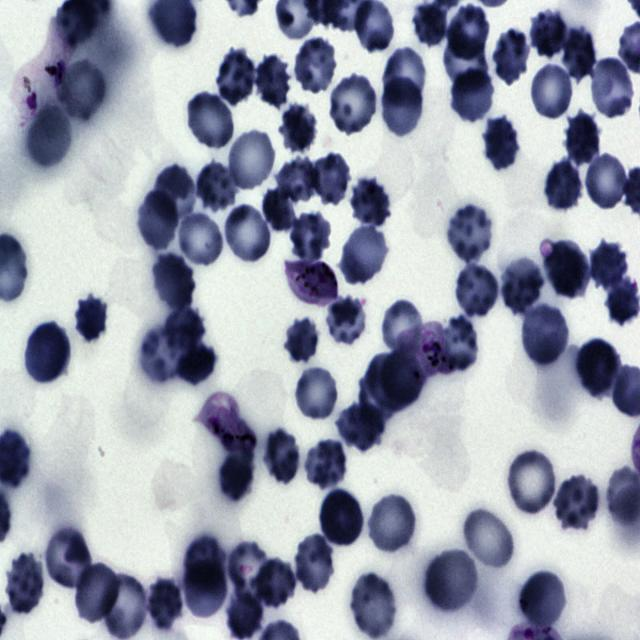red blood cell: (503, 446, 559, 518), (461, 506, 515, 573), (424, 549, 478, 615), (225, 127, 278, 194), (349, 570, 398, 640), (366, 491, 418, 556), (520, 302, 570, 369), (326, 72, 379, 135), (24, 103, 73, 171), (222, 202, 274, 265), (184, 91, 237, 151), (58, 57, 106, 123), (23, 322, 72, 386), (382, 45, 431, 109), (444, 203, 496, 263), (339, 225, 390, 286), (588, 57, 636, 121), (46, 526, 94, 590), (73, 561, 121, 625), (518, 570, 567, 632), (102, 571, 146, 640), (136, 187, 181, 254), (544, 238, 591, 302), (379, 298, 426, 362), (380, 76, 426, 141), (150, 250, 198, 312), (292, 364, 342, 423), (366, 352, 415, 412), (138, 324, 186, 384), (318, 488, 365, 549), (576, 337, 621, 400), (292, 37, 340, 96), (528, 62, 576, 121), (4, 552, 47, 617), (443, 33, 489, 93), (182, 558, 228, 618), (292, 534, 337, 595), (453, 262, 501, 319), (498, 257, 545, 315), (336, 400, 385, 455), (445, 3, 493, 59), (554, 475, 601, 532), (584, 152, 629, 211), (449, 66, 494, 125), (436, 315, 480, 375), (153, 161, 197, 221), (228, 542, 272, 601), (302, 439, 350, 492), (215, 49, 257, 107), (178, 214, 223, 268), (261, 427, 302, 486), (324, 295, 369, 348), (254, 556, 298, 610), (492, 28, 532, 86), (196, 161, 238, 216), (358, 370, 398, 426), (282, 315, 324, 368), (543, 159, 584, 213), (288, 213, 332, 263), (311, 152, 351, 207), (381, 351, 424, 402), (563, 109, 602, 165), (275, 156, 319, 205), (254, 54, 293, 109), (216, 449, 254, 505), (528, 8, 568, 61), (73, 293, 112, 347), (589, 240, 630, 291), (278, 103, 318, 155), (185, 536, 225, 588), (147, 574, 183, 631), (558, 26, 596, 79), (351, 177, 389, 228), (225, 590, 264, 639), (484, 117, 520, 169), (164, 308, 206, 349), (175, 344, 217, 384), (606, 278, 640, 326), (413, 0, 446, 48), (264, 183, 294, 232)
trophozoite: (9, 18, 76, 116), (196, 391, 258, 455), (397, 323, 456, 382), (284, 257, 340, 310)
